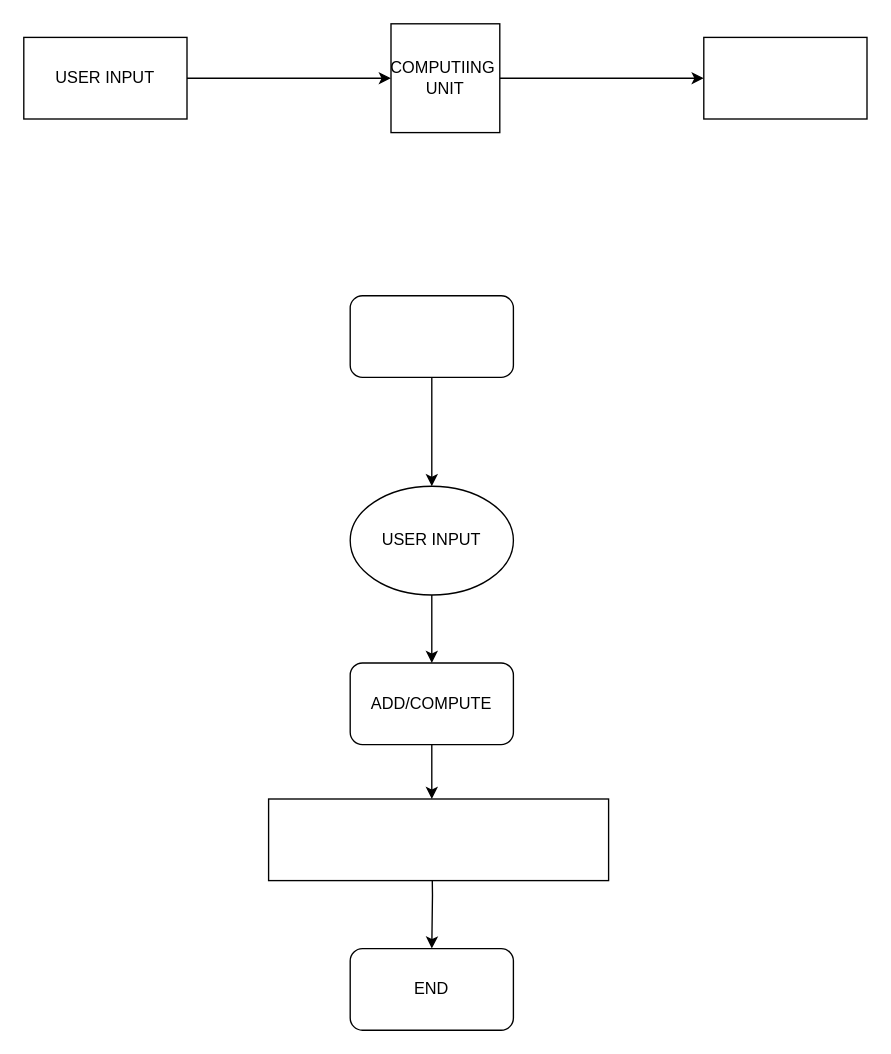
This 891x1054 diagram has some shape labels left out. The centre of each missing label's shape, as x and y in pixels:
DISPLAY SERVER: point (438, 839)
OUTPPUT: point (784, 77)
START: point (431, 335)
